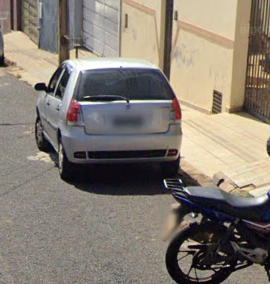car: (30, 33, 189, 178)
